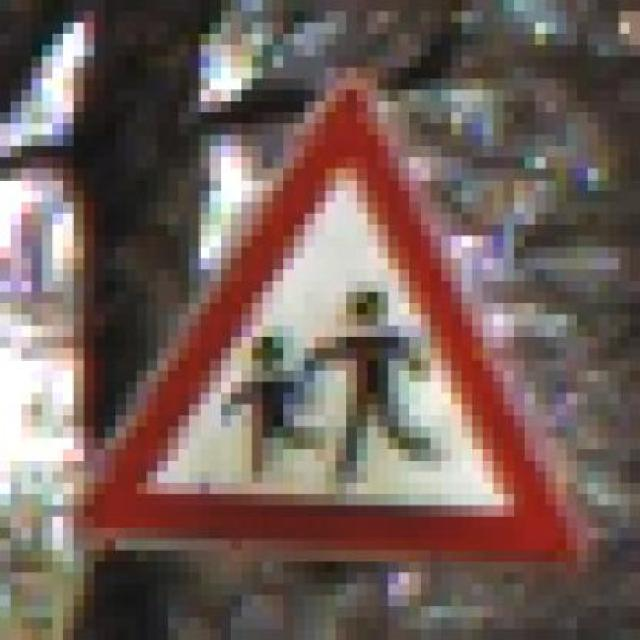Beware of children: (62, 56, 608, 562)
